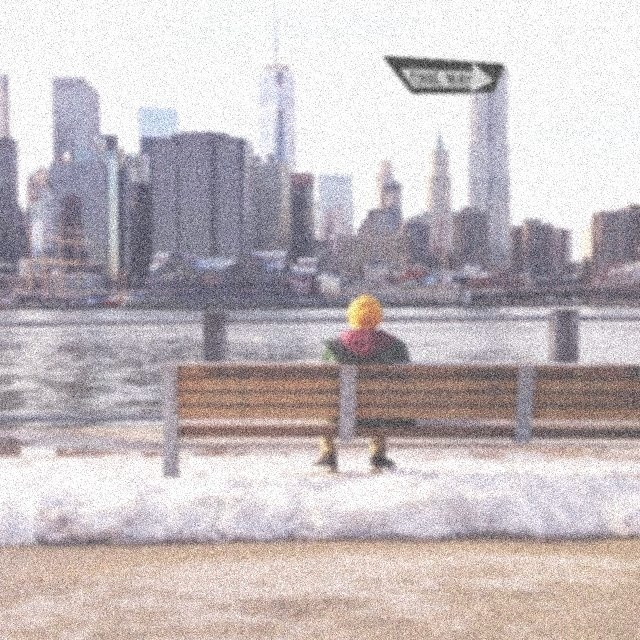ONE_WAY_ right: (381, 55, 505, 94)
